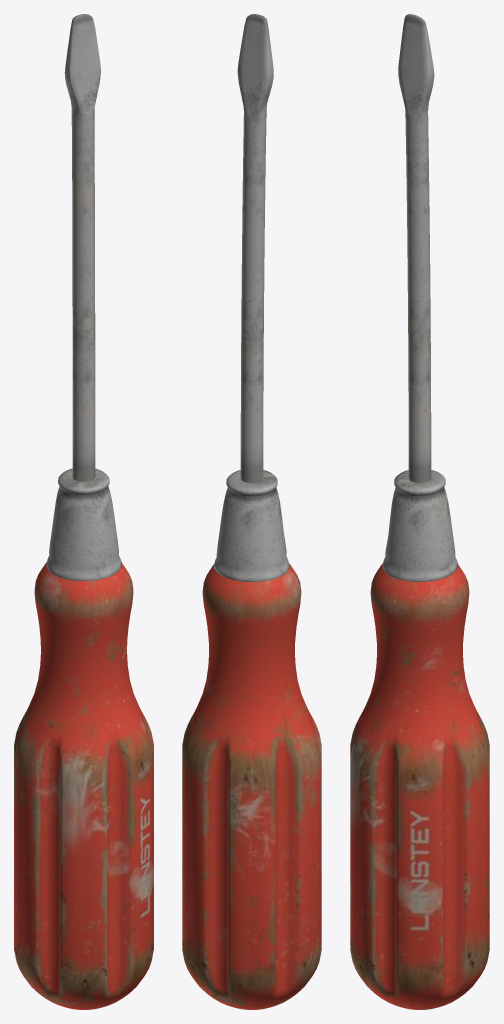
The picture shows the model from 3 angles, left to right: view 1: azimuth 30°, elevation 25°; view 2: azimuth 150°, elevation 25°; view 3: azimuth 330°, elevation 25°; orthographic projection.
Visible parts, largest first — view 1: screwdriver; view 2: screwdriver; view 3: screwdriver.
Part boxes in pixels (bbox=[...]): screwdriver: bbox=[14, 14, 153, 1009]; screwdriver: bbox=[182, 14, 321, 1009]; screwdriver: bbox=[350, 14, 489, 1009].
Size of the model in its own units: 0.0271 by 0.209 by 0.0267.
1 material, 1 textured.
